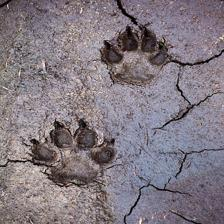wolf: (29, 115, 121, 192), (95, 23, 173, 93)
